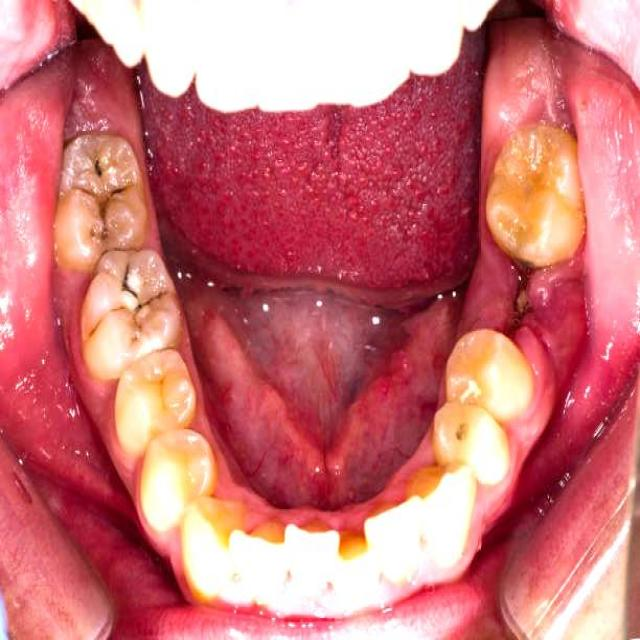caries: (84, 256, 167, 351), (65, 147, 136, 246)
